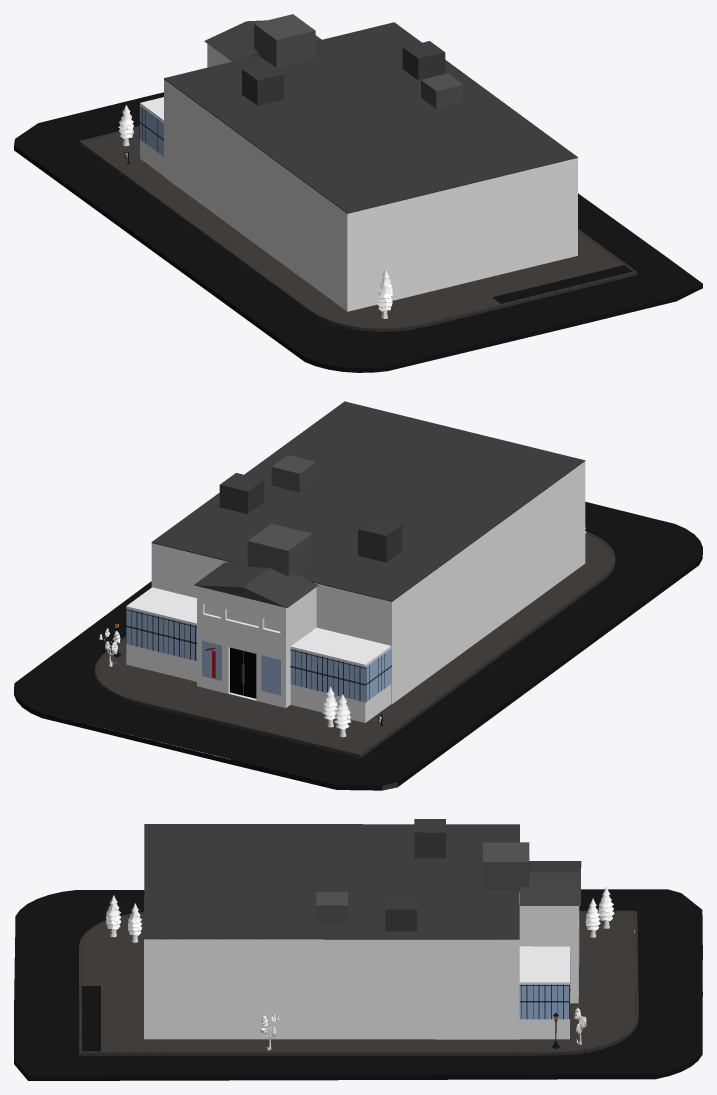
The model's file is Geb1.glb.
The picture shows the model from 3 angles, top to bottom: view 1: azimuth 30°, elevation 25°; view 2: azimuth 150°, elevation 25°; view 3: azimuth 270°, elevation 25°; orthographic projection. The views are drawn at different scales.
Visible parts, largest first — view 1: Circle.031, Street FLF.002; view 2: Circle.031, Street FLF.002; view 3: Circle.031, Street FLF.002, Tree.011.
Boxes of the visible parts, x1,y1,x2,y2 form: Circle.031: (124,14,577,318); Street FLF.002: (14,92,702,372); Circle.031: (113,401,586,725); Street FLF.002: (14,501,702,790); Circle.031: (106,819,581,1050); Street FLF.002: (14,889,702,1080); Tree.011: (598,887,614,928).
Size of the model in its own units: 27.93 by 9.56 by 43.52.
Materials: 65 (4 with a texture image).
